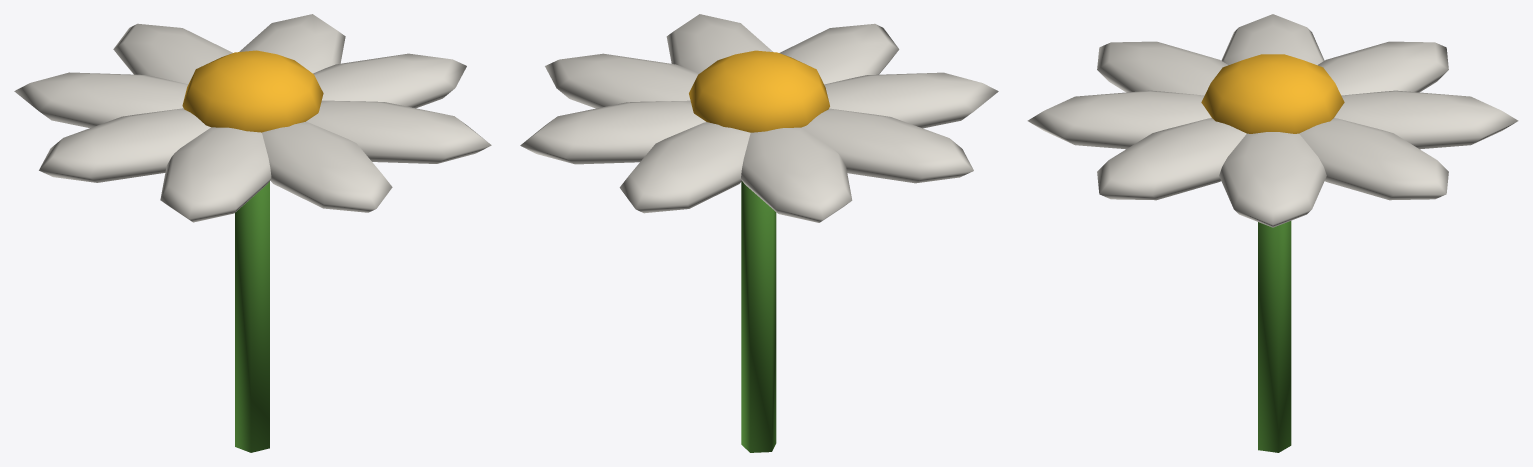
Rendered from flower_daisy.fbx.
3 renders of one model, left to right at view 1: azimuth 30°, elevation 25°; view 2: azimuth 150°, elevation 25°; view 3: azimuth 270°, elevation 25°, orthographic.
Visible parts, largest first — view 1: flower_daisy; view 2: flower_daisy; view 3: flower_daisy.
Boxes of the visible parts, <box> form: flower_daisy: <box>14,14,491,452</box>; flower_daisy: <box>520,14,998,452</box>; flower_daisy: <box>1027,14,1518,452</box>.
Size of the model in its own units: 0.048 by 0.0412 by 0.048.
